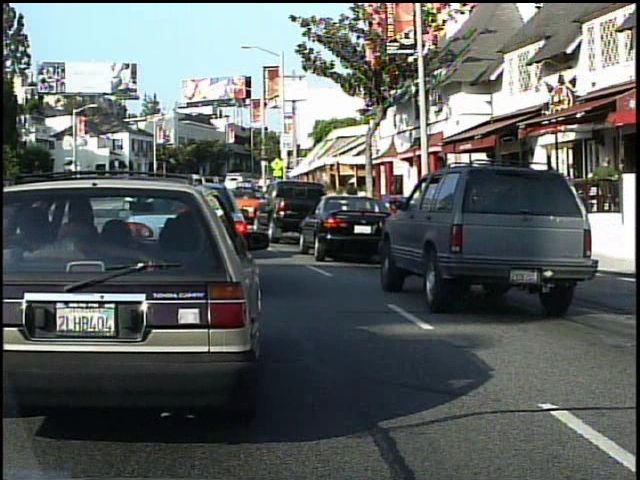person: (588, 151, 622, 235)
